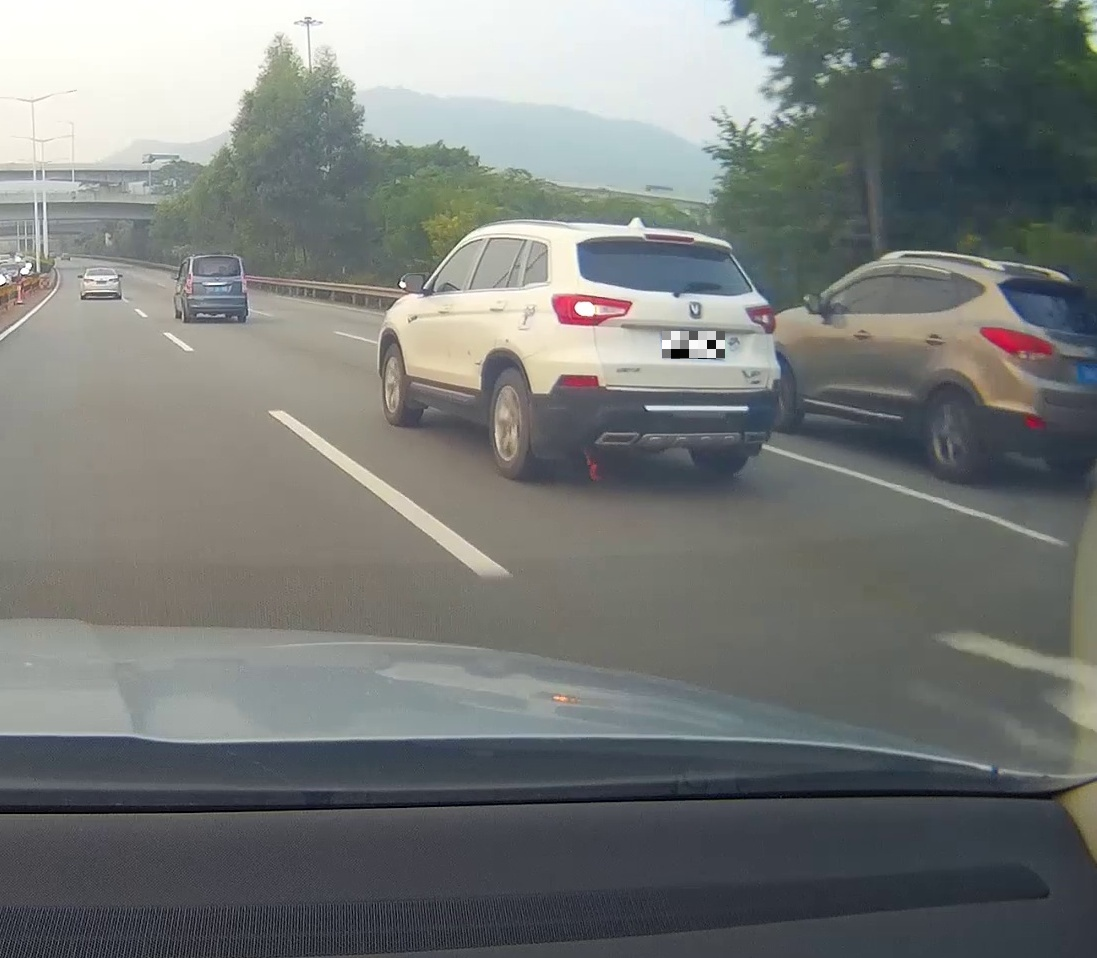L_light: (552, 293, 632, 326), (186, 275, 192, 294), (84, 279, 94, 282)
R_light: (746, 302, 776, 333), (242, 276, 247, 294), (110, 278, 120, 282)
T_light: (643, 233, 696, 244), (212, 273, 223, 276), (98, 270, 105, 272)
day-left: (546, 221, 780, 478)
day-no: (183, 254, 248, 322), (79, 268, 122, 299)
plate_1: (662, 331, 725, 359)
